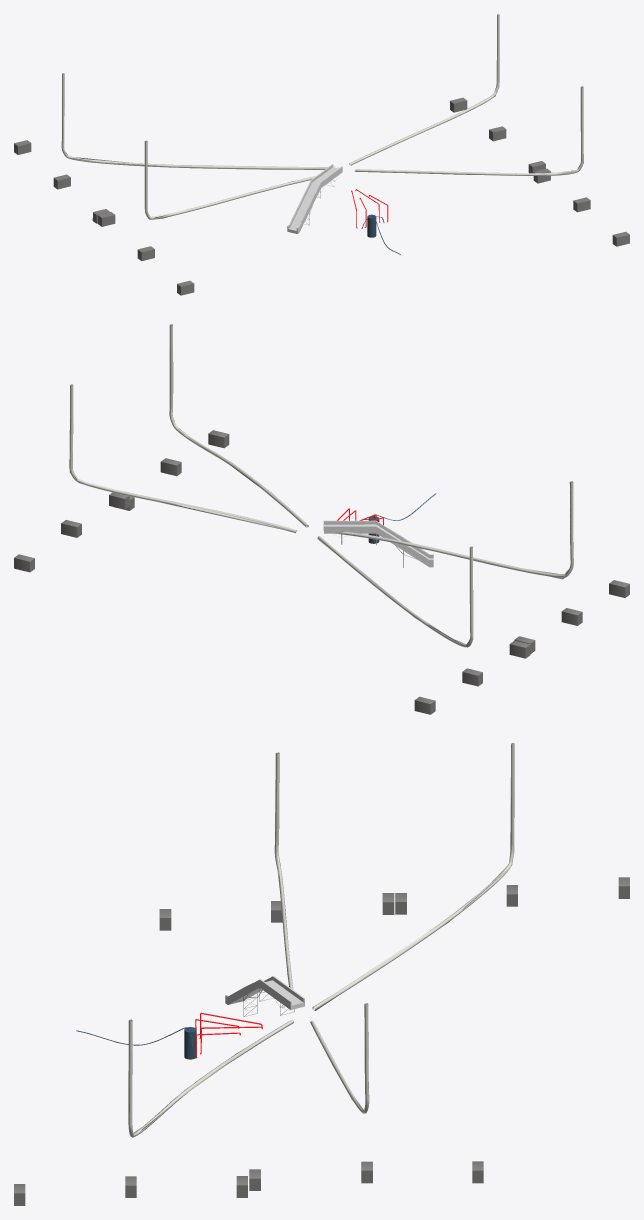
File: STEMP_Station_4.glb
The picture shows the model from 3 angles, top to bottom: view 1: azimuth 30°, elevation 25°; view 2: azimuth 150°, elevation 25°; view 3: azimuth 270°, elevation 25°; orthographic projection. The views are drawn at different scales.
Visible parts, largest first — view 1: Mirror_Bases_4, Pipes-Mirrors-to-Tank-Insulation_4E, Pipes-Mirrors-to-Tank-Insulation._4W.001, Gangway-colonly.003, Pipes-Mirrors-to-Tank-Insulation._4W, Pipes-Mirrors-to-Tank-Insulation._4W.002, Pipes-Mirrors-to-Tank-Insulation_4E.001, Pipes-Mirrors-to-Tank-Insulation_4E.002; view 2: Mirror_Bases_4, Pipes-Mirrors-to-Tank-Insulation._4W.001, Gangway-colonly.003, Pipes-Mirrors-to-Tank-Insulation_4E.001, Pipes-Mirrors-to-Tank-Insulation._4W, Pipes-Mirrors-to-Tank-Insulation_4E.002, Pipes-Mirrors-to-Tank-Insulation_4E, Pipes-Mirrors-to-Tank-Insulation._4W.002; view 3: Mirror_Bases_4, Pipes-Mirrors-to-Tank-Insulation_4E.001, Pipes-Mirrors-to-Tank-Insulation._4W.001, Pipes-Mirrors-to-Tank-Insulation._4W, Gangway-colonly.003, Pipes-Mirrors-to-Tank-Insulation._4W.002, Pipes-Mirrors-to-Tank-Insulation_4E, Pipes-Mirrors-to-Tank-Insulation_4E.002.
Part boxes in pixels (x1,y1,x2,y2): Mirror_Bases_4: (14,97,629,295); Pipes-Mirrors-to-Tank-Insulation_4E: (349,20,583,175); Pipes-Mirrors-to-Tank-Insulation._4W.001: (61,80,327,219); Gangway-colonly.003: (287,164,342,233); Pipes-Mirrors-to-Tank-Insulation._4W: (61,73,325,219); Pipes-Mirrors-to-Tank-Insulation._4W.002: (62,73,324,219); Pipes-Mirrors-to-Tank-Insulation_4E.001: (349,14,583,175); Pipes-Mirrors-to-Tank-Insulation_4E.002: (349,14,583,175); Mirror_Bases_4: (14,430,629,714); Pipes-Mirrors-to-Tank-Insulation._4W.001: (317,481,573,646); Gangway-colonly.003: (323,520,433,567); Pipes-Mirrors-to-Tank-Insulation_4E.001: (69,324,308,532); Pipes-Mirrors-to-Tank-Insulation._4W: (318,482,573,647); Pipes-Mirrors-to-Tank-Insulation_4E.002: (69,324,307,532); Pipes-Mirrors-to-Tank-Insulation_4E: (69,324,307,533); Pipes-Mirrors-to-Tank-Insulation._4W.002: (317,481,573,647); Mirror_Bases_4: (14,877,629,1205); Pipes-Mirrors-to-Tank-Insulation_4E.001: (128,1003,369,1136); Pipes-Mirrors-to-Tank-Insulation._4W.001: (274,743,514,1010); Pipes-Mirrors-to-Tank-Insulation._4W: (274,747,514,1009); Gangway-colonly.003: (225,976,304,1009); Pipes-Mirrors-to-Tank-Insulation._4W.002: (274,743,514,1010); Pipes-Mirrors-to-Tank-Insulation_4E: (128,1003,369,1136); Pipes-Mirrors-to-Tank-Insulation_4E.002: (129,1003,368,1137).
Bounding box in the file's own units: 131 × 43.6 × 124.
